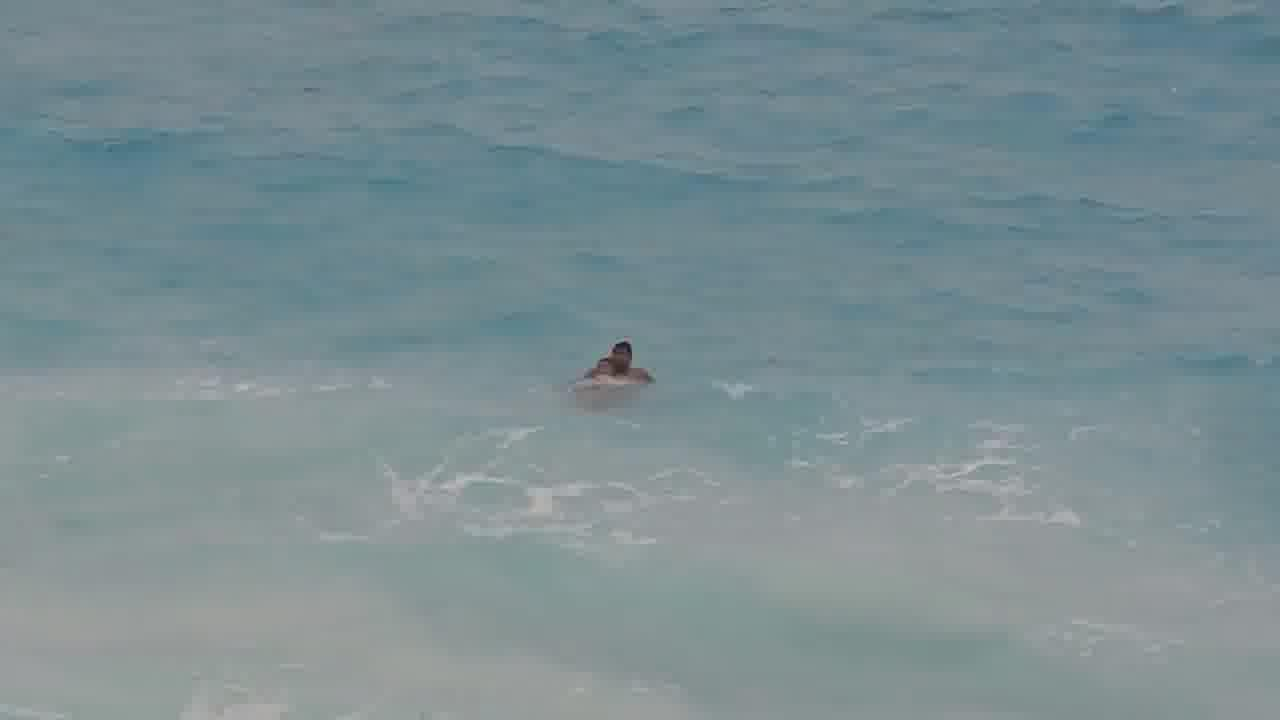human: (606, 332, 654, 388), (575, 352, 616, 386)
